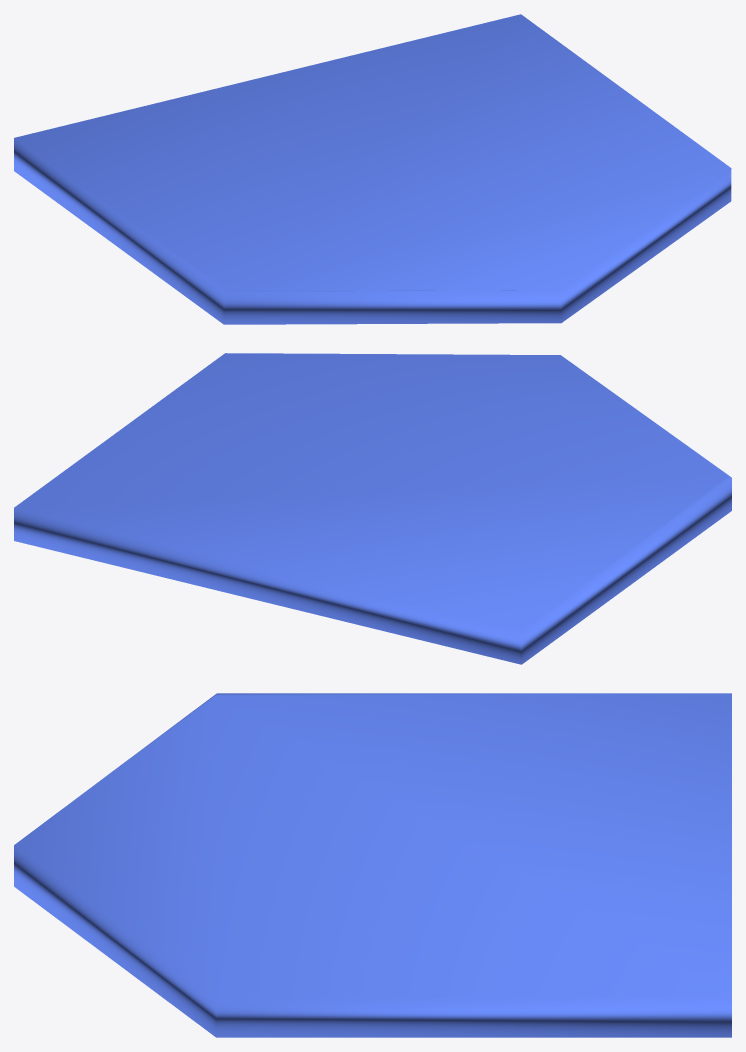
File: shield.fbx
3 views of the same model, one above another, from view 1: azimuth 30°, elevation 25°; view 2: azimuth 150°, elevation 25°; view 3: azimuth 270°, elevation 25° (orthographic). The views are drawn at different scales.
Parts seen in each view (by area): view 1: Plane; view 2: Plane; view 3: Plane.
Part boxes in pixels (x1,y1,x2,y2): Plane: (14,14,731,324); Plane: (14,353,731,664); Plane: (14,693,731,1037).
Size of the model in its own units: 8 by 0.5 by 8.
